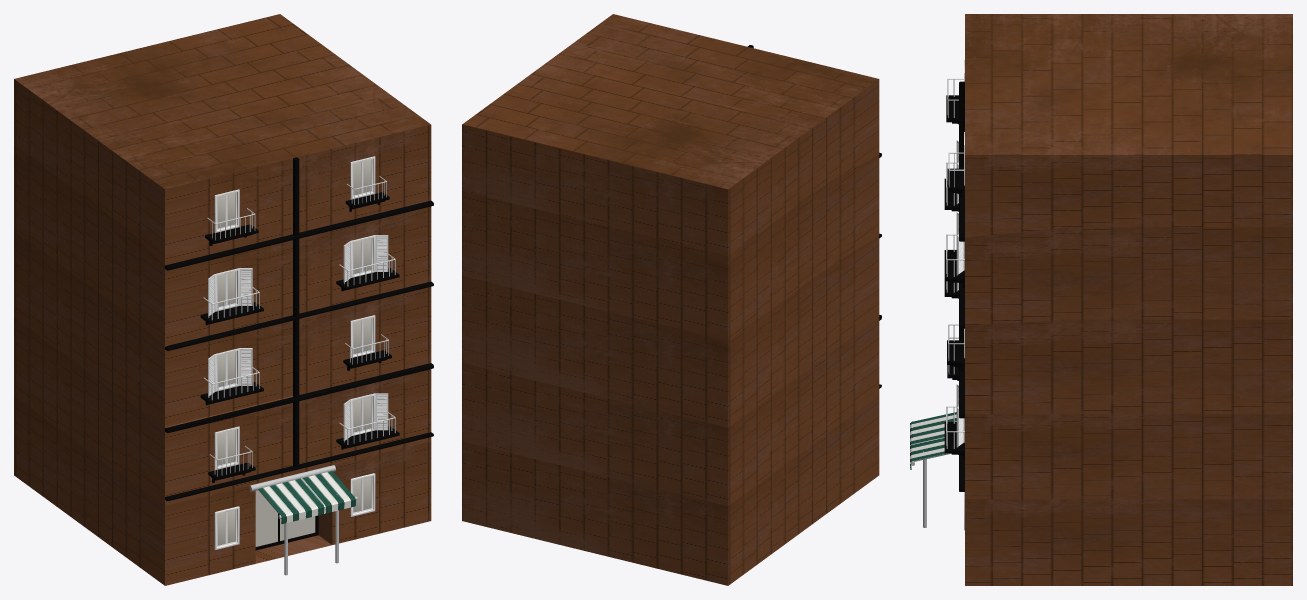
File: buildingplain1.fbx
The picture shows the model from 3 angles, left to right: view 1: azimuth 30°, elevation 25°; view 2: azimuth 150°, elevation 25°; view 3: azimuth 270°, elevation 25°; orthographic projection. The views are drawn at different scales.
Visible parts, largest first — view 1: Cube.002, Cube, Plane.010, Plane.038, Plane.034, Plane.028, Cube.003, Plane.048, Plane.018, Plane.024, Plane.044, Cube.001 (+11 smaller); view 2: Cube.002; view 3: Cube.002, Cube, Plane.034, Plane.010, Plane.024, Plane.044.
Boxes of the visible parts, <box> form: Cube.002: <box>14,14,433,585</box>; Cube: <box>258,471,355,524</box>; Plane.010: <box>336,393,399,449</box>; Plane.038: <box>200,268,263,325</box>; Plane.034: <box>336,235,399,291</box>; Plane.028: <box>200,348,263,405</box>; Cube.003: <box>255,490,315,546</box>; Plane.048: <box>205,189,258,245</box>; Plane.018: <box>208,426,255,482</box>; Plane.024: <box>343,315,391,370</box>; Plane.044: <box>345,156,389,211</box>; Cube.001: <box>255,512,332,550</box>; Cube.002: <box>462,14,881,585</box>; Cube.002: <box>959,14,1292,585</box>; Cube: <box>910,412,956,469</box>; Plane.034: <box>944,212,964,287</box>; Plane.010: <box>944,384,964,459</box>; Plane.024: <box>947,324,964,371</box>; Plane.044: <box>947,132,964,198</box>.
Size of the model in its own units: 1037 by 1480 by 1190.
